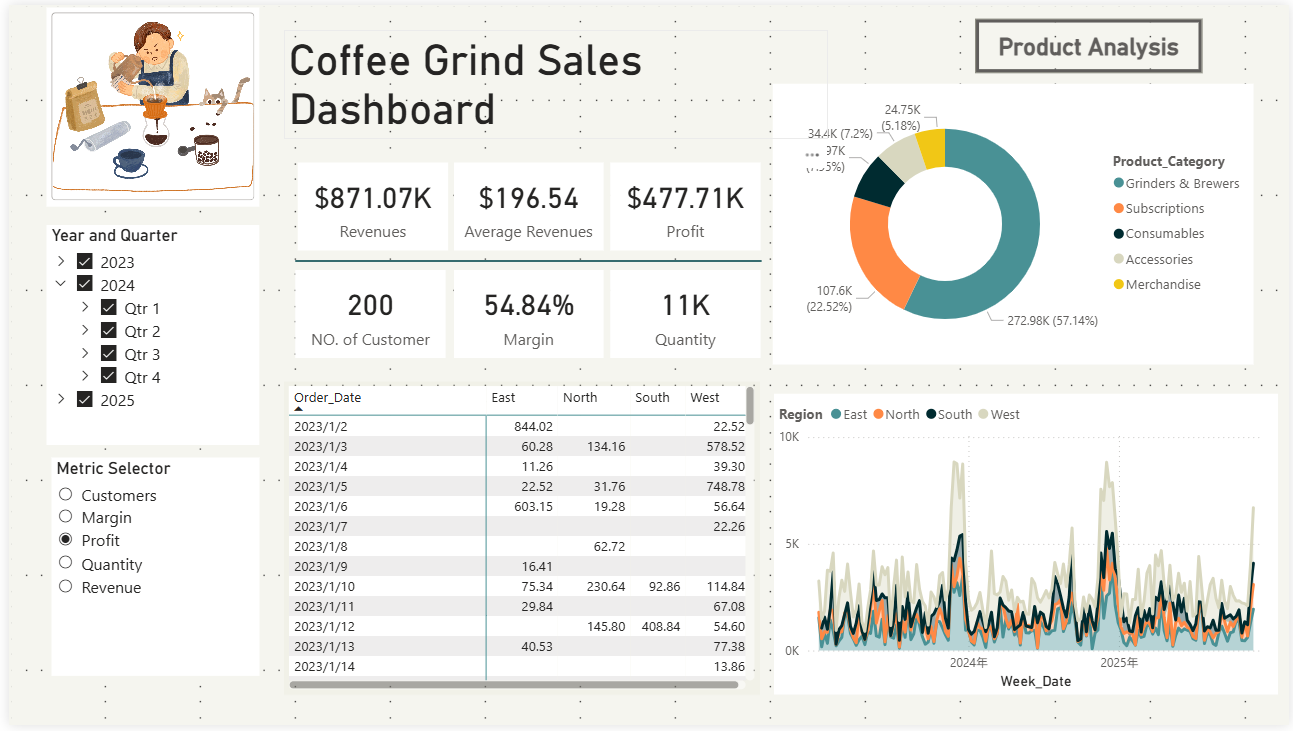

What the dashboard file says about the page in this screenshot:
{"tool":"powerbi","page":{"name":"DashBoard","canvas":[1280,720],"ordinal":0},"visuals":[{"type":"donutChart","fields":{"Category":["Import_Data_From_MySQL.Product_Category"],"Y":["Import_Data_From_MySQL.KPI"]},"box":[764.3,79.3,480.9,280.7],"z":0},{"type":"stackedAreaChart","fields":{"Series":["Import_Data_From_MySQL.Region"],"Category":["Import_Data_From_MySQL.Week_Date"],"Y":["Import_Data_From_MySQL.KPI"]},"box":[764.6,388.8,503.6,300.5],"z":1000},{"type":"pivotTable","fields":{"Columns":["Import_Data_From_MySQL.Region"],"Values":["Import_Data_From_MySQL.KPI"],"Rows":["Import_Data_From_MySQL.Order_Date"]},"box":[275.5,375.6,475.7,313.2],"z":2000},{"type":"card","fields":{"Values":["Sum(Import_Data_From_MySQL.Quantity)"]},"box":[601.8,265.4,150.8,88.4],"z":3000},{"type":"shape","box":[285.9,246,466.6,19.5],"z":4000},{"type":"listSlicer","fields":{"Values":["Import_Data_From_MySQL.Order_Date.Variation.Date Hierarchy.Year","Import_Data_From_MySQL.Order_Date.Variation.Date Hierarchy.Quarter","Import_Data_From_MySQL.Order_Date.Variation.Date Hierarchy.Month","Import_Data_From_MySQL.Order_Date.Variation.Date Hierarchy.Day"]},"box":[37.7,219.7,213.2,219.7],"z":5000},{"type":"card","fields":{"Values":["Count(Import_Data_From_MySQL.CustomerID)"]},"box":[285.9,265.4,150.8,88.4],"z":6000},{"type":"card","fields":{"Values":["Import_Data_From_MySQL.Margin"]},"box":[444.5,265.4,149.5,88.4],"z":7000},{"type":"card","fields":{"Values":["Sum(Import_Data_From_MySQL.Profit)"]},"box":[601.8,157.6,150.8,88.4],"z":8000},{"type":"card","fields":{"Values":["Sum(Import_Data_From_MySQL.Cleaned_Revenues)"]},"box":[288.5,157.6,150.8,88.4],"z":9000},{"type":"card","fields":{"Values":["Avg(Import_Data_From_MySQL.Cleaned_Revenues)"]},"box":[444.5,157.6,149.5,88.4],"z":10000},{"type":"listSlicer","fields":{"Values":["Metric Selector.Metric Selector"]},"box":[42.9,452.3,208,218.4],"z":11000},{"type":"advancedSlicerVisual","fields":{"Values":["image.image"]},"box":[37.7,2.6,213.2,198.9],"z":12000},{"type":"textbox","box":[275.5,24.7,543.3,109.2],"z":13000},{"type":"actionButton","box":[965.7,14.3,227.5,54.6],"z":14000}]}

Visuals, with their boxes in screenshot pixels (x1, y1, x2, y2), scaled from the page's 1280x720 canvas onto the 1293x731 screenshot:
donutChart - Import_Data_From_MySQL.Product_Category x Import_Data_From_MySQL.KPI: 772,81,1258,366
stackedAreaChart - Import_Data_From_MySQL.Region x Import_Data_From_MySQL.Week_Date: 772,395,1281,700
pivotTable - Import_Data_From_MySQL.Region x Import_Data_From_MySQL.KPI: 278,381,759,699
card - Sum(Import_Data_From_MySQL.Quantity): 608,269,760,359
shape: 289,250,760,270
listSlicer - Import_Data_From_MySQL.Order_Date.Variation.Date Hierarchy.Year x Import_Data_From_MySQL.Order_Date.Variation.Date Hierarchy.Quarter: 38,223,253,446
card - Count(Import_Data_From_MySQL.CustomerID): 289,269,441,359
card - Import_Data_From_MySQL.Margin: 449,269,600,359
card - Sum(Import_Data_From_MySQL.Profit): 608,160,760,250
card - Sum(Import_Data_From_MySQL.Cleaned_Revenues): 291,160,444,250
card - Avg(Import_Data_From_MySQL.Cleaned_Revenues): 449,160,600,250
listSlicer - Metric Selector.Metric Selector: 43,459,253,681
advancedSlicerVisual - image.image: 38,3,253,205
textbox: 278,25,827,136
actionButton: 976,15,1205,70
